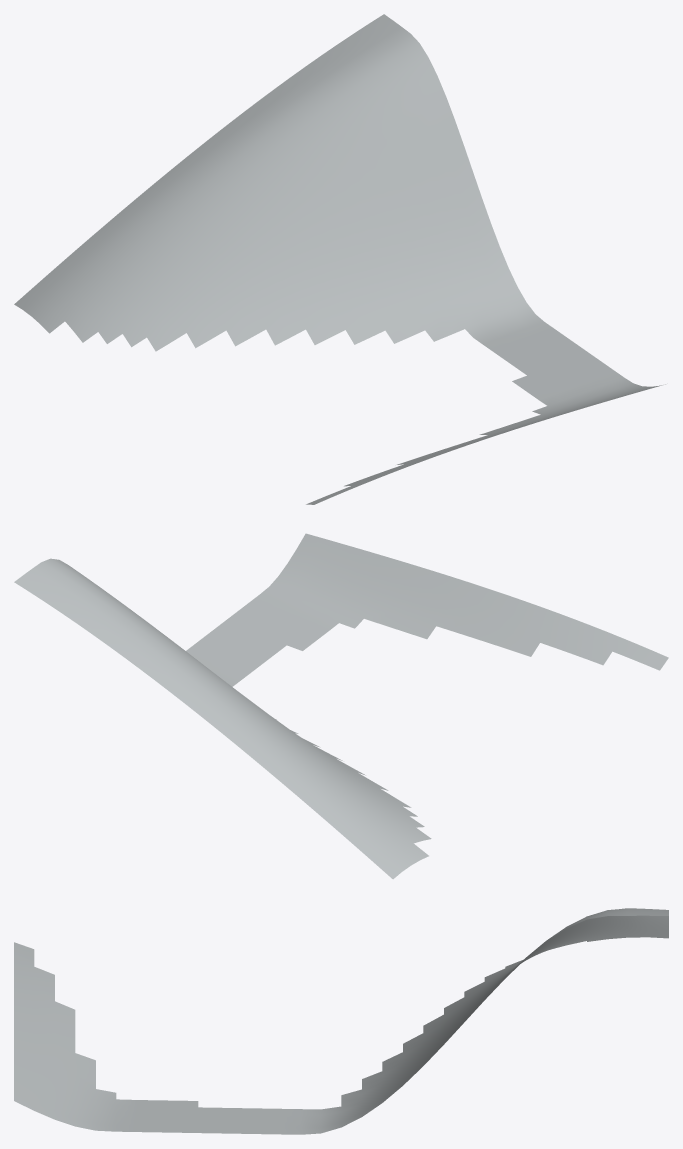
The model's file is alpine-8-2.glb.
The picture shows the model from 3 angles, top to bottom: view 1: azimuth 30°, elevation 25°; view 2: azimuth 150°, elevation 25°; view 3: azimuth 270°, elevation 25°; orthographic projection. The views are drawn at different scales.
Visible parts, largest first — view 1: alpine-8-2; view 2: alpine-8-2; view 3: alpine-8-2.
Boxes of the visible parts, x1=… form: alpine-8-2: x1=14, y1=14, x2=665, y2=504; alpine-8-2: x1=14, y1=533, x2=668, y2=879; alpine-8-2: x1=14, y1=908, x2=668, y2=1134.
Size of the model in its own units: 192 by 101 by 256.
1 material, 1 textured.
